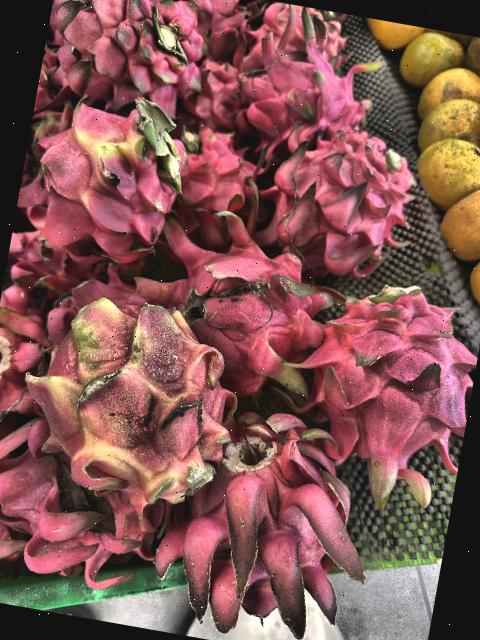buah-naga-belum-matang: (14, 279, 250, 504), (17, 83, 195, 270)
buah-naga-matang: (166, 402, 399, 640), (293, 261, 480, 506), (134, 208, 336, 396), (0, 406, 166, 588), (272, 114, 426, 284), (39, 0, 223, 116), (230, 20, 390, 146), (156, 122, 281, 244), (0, 276, 57, 434), (241, 0, 358, 66), (0, 445, 47, 606), (181, 47, 250, 132), (177, 0, 260, 50)
